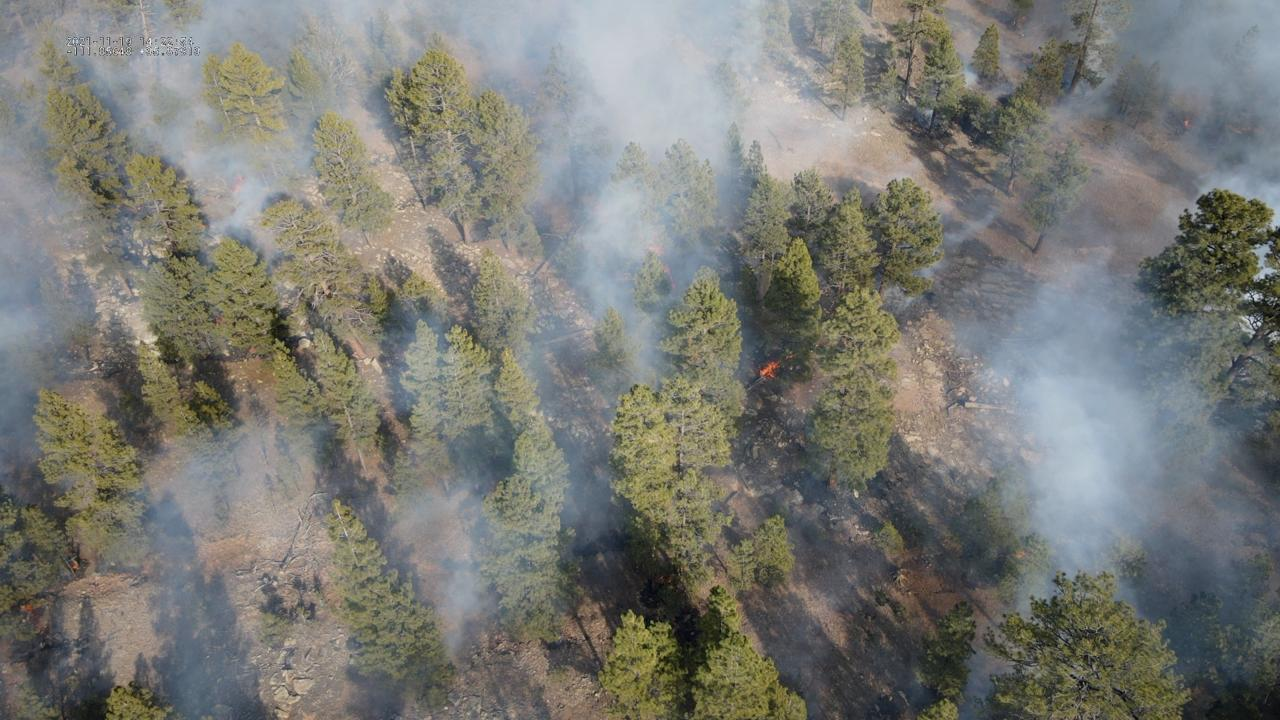fire: (757, 359, 782, 380), (229, 174, 246, 193), (649, 241, 664, 258), (1010, 549, 1027, 560), (70, 559, 81, 573), (21, 603, 34, 613), (214, 315, 224, 328), (671, 280, 677, 295), (662, 266, 672, 274), (1184, 120, 1191, 131)
smoke: (0, 0, 1280, 720)
